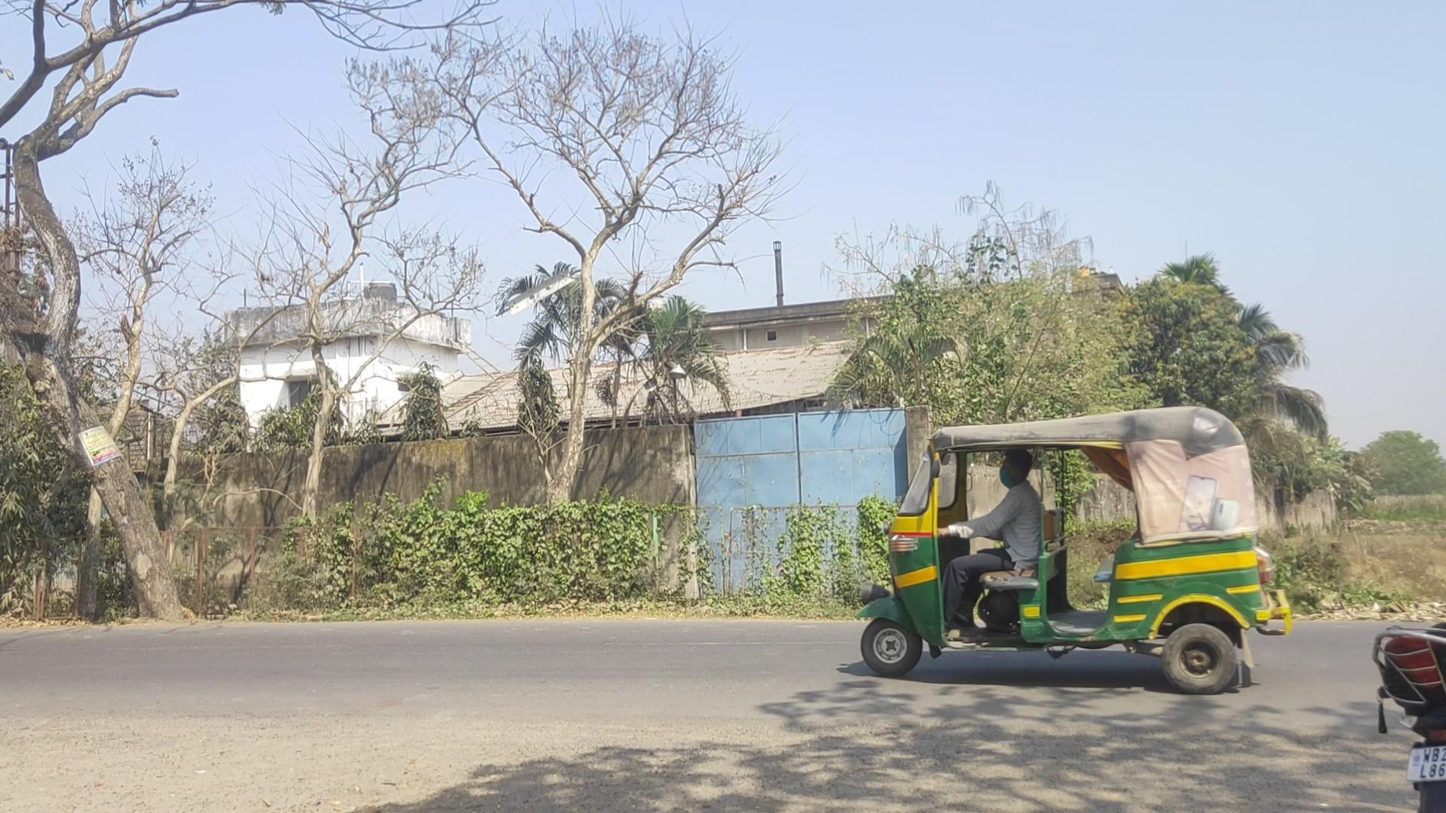Auto: (854, 405, 1292, 695)
